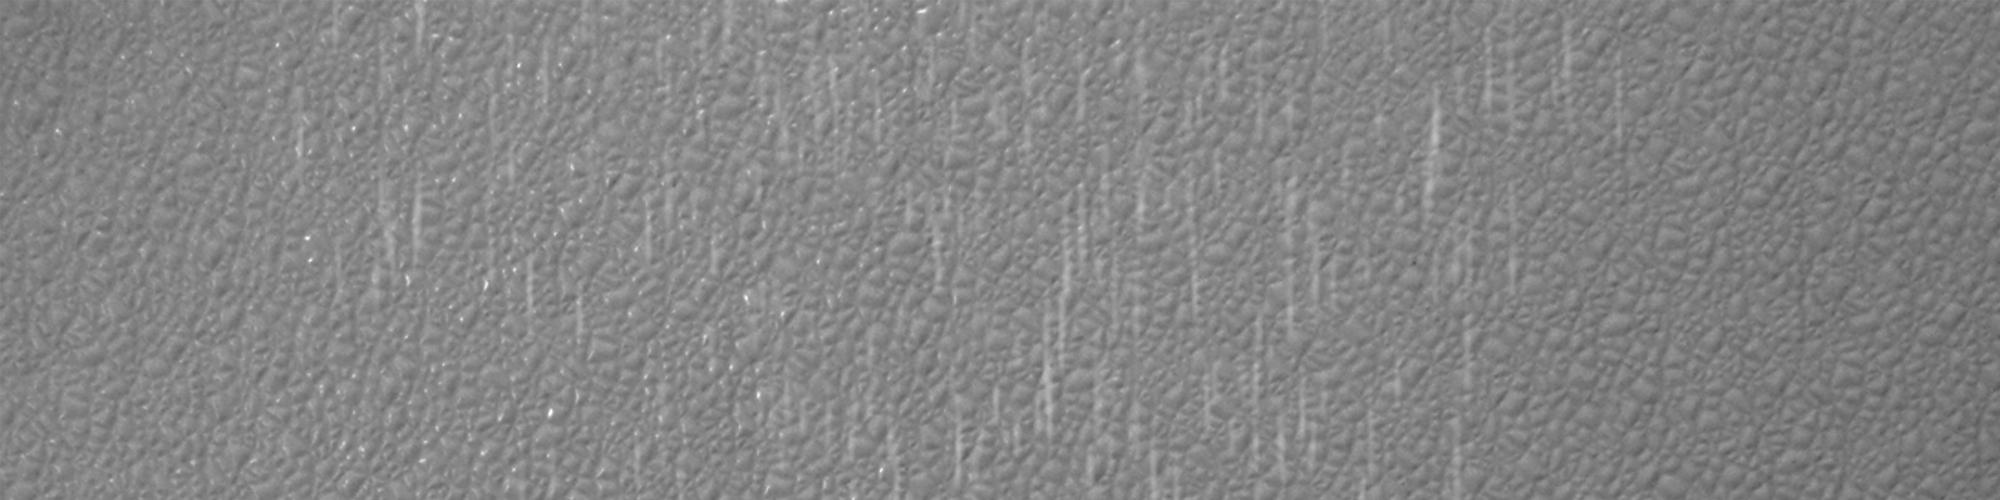Streaks: (1056, 172, 1106, 375), (899, 179, 966, 311), (1485, 8, 1532, 157), (1282, 349, 1328, 496), (1415, 77, 1453, 239), (1486, 166, 1532, 298), (1281, 173, 1314, 355), (1128, 394, 1181, 497), (1129, 167, 1159, 347), (642, 28, 698, 122), (812, 54, 858, 163), (1351, 355, 1381, 500), (1457, 179, 1494, 298), (987, 364, 1031, 466), (478, 94, 520, 199), (1550, 17, 1583, 144), (1168, 70, 1216, 157), (358, 219, 402, 312), (1032, 309, 1060, 452), (404, 176, 436, 298), (1175, 181, 1202, 323), (1429, 409, 1472, 496), (636, 180, 672, 279), (1247, 311, 1270, 464), (1131, 43, 1162, 156), (1606, 42, 1631, 173), (1453, 304, 1482, 413), (934, 85, 968, 179), (815, 375, 849, 466), (884, 409, 918, 499), (946, 386, 976, 491), (1068, 68, 1099, 142), (515, 245, 542, 333), (1246, 84, 1276, 165), (531, 38, 557, 122), (319, 3, 347, 71), (1018, 31, 1046, 99), (1381, 348, 1408, 420), (286, 94, 307, 179), (568, 270, 588, 360), (402, 5, 435, 55), (1370, 14, 1397, 73), (1310, 3, 1335, 59), (869, 91, 890, 156), (497, 31, 520, 91), (1217, 40, 1233, 110), (1286, 83, 1300, 143)
